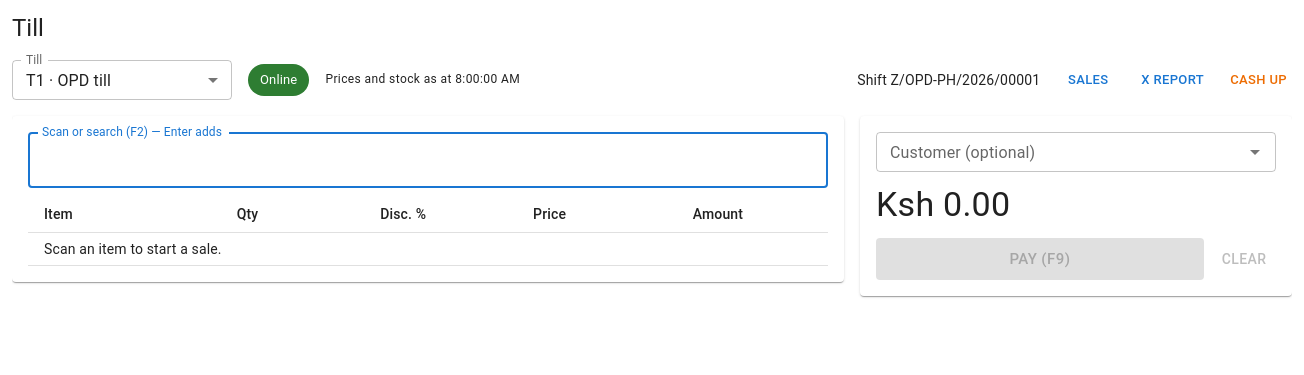
Test: till screen › scans an item into the basket and shows the server total, controls and alerts
Expected: the text "Shift Z/OPD-PH/2026/00001" is shown, [857,70,1040,90]
Type "6001234567890" into the field labelled "Scan or search (F2) — Enter adds" at [428, 160], box [28,132,828,188]
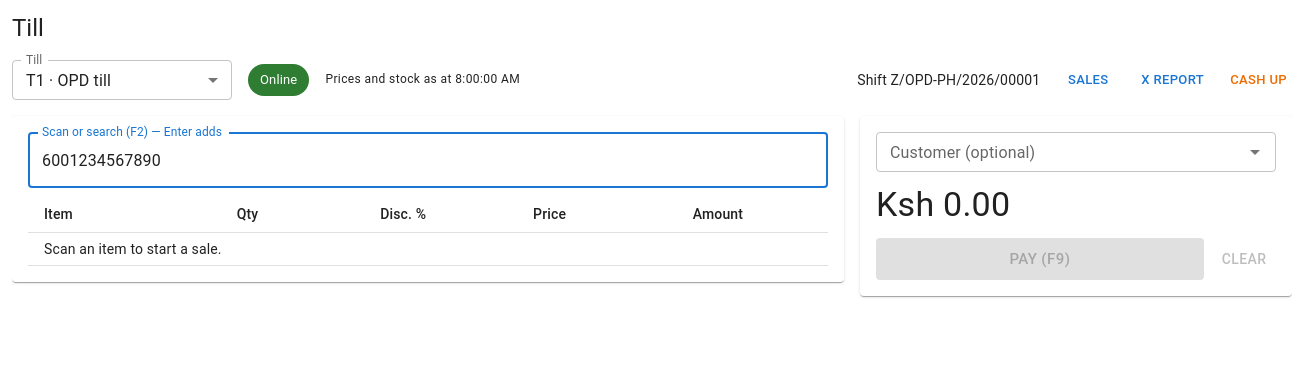
Press Enter in the field labelled "Scan or search (F2) — Enter adds", box [28,132,828,188]
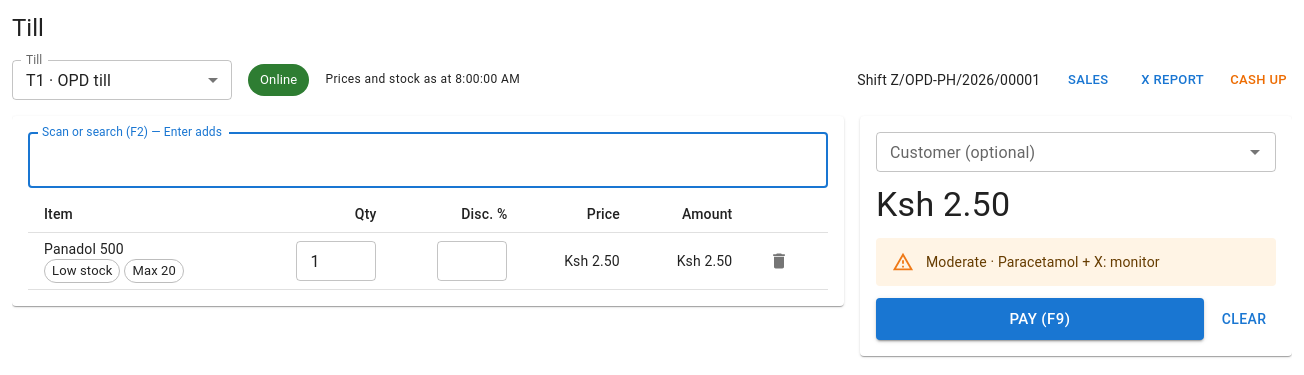
Expected: the text "Panadol 500" is shown, [44,241,124,257]
Expected: the text "Moderate · Paracetamol + X: monitor" is shown, [926,254,1160,270]
Expected: the text "Low stock" is shown, [52,263,112,278]
